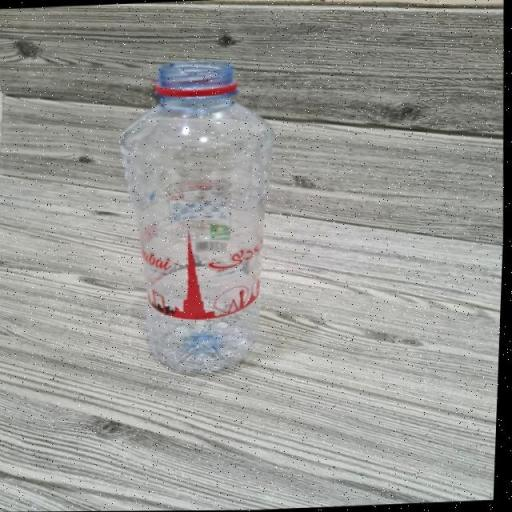plastic: (108, 59, 296, 377)
